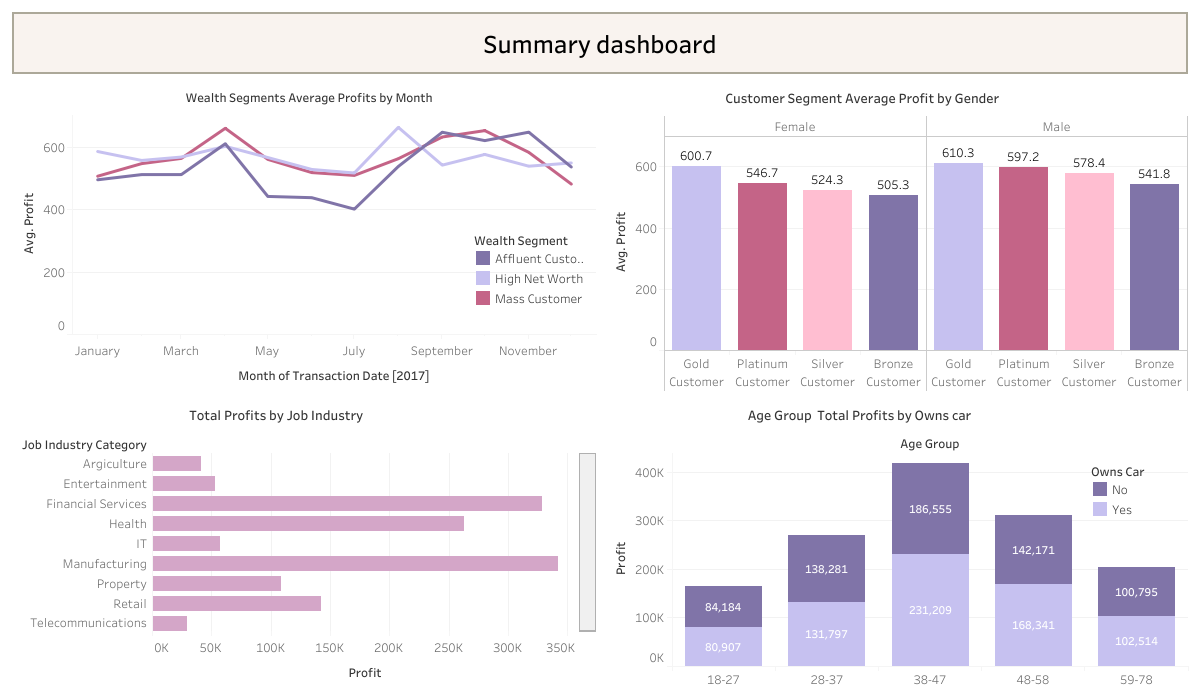

What the dashboard file says about the page in this screenshot:
{"tool":"tableau","page":{"name":"Summary dashboard","canvas":[1000,1000],"units":"permille","ordinal":0},"visuals":[{"type":"title","box":[7,11.4,986,100]},{"type":"worksheet","title":"Wealth Segments Average Profits by Month","mark":"Automatic","rows":["profit"],"cols":["transaction_date"],"box":[7,111.4,492.7,453.3]},{"type":"worksheet","title":"Average profit ","mark":"Automatic","rows":["profit"],"cols":["gender","Customer_profile"],"box":[499.7,111.4,493.3,453.3]},{"type":"legend","title":"Wealth Segments Average Profits by Month","param":"[federated.0dcfokb0alhsn612u58l811nm39n].[none:wealth_segment:nk]","box":[393.8,327.7,98.2,145.3]},{"type":"worksheet","title":"Total Profits by Industry","mark":"Automatic","rows":["job_industry_category"],"cols":["profit"],"box":[7,564.7,492.7,423.9]},{"type":"worksheet","title":"Age Group  Total Profits by Owns car","mark":"Automatic","rows":["profit"],"cols":["age_group"],"box":[499.7,564.7,493.3,423.9]},{"type":"legend","title":"Age Group  Total Profits by Owns car","param":"[federated.0dcfokb0alhsn612u58l811nm39n].[none:owns_car:nk]","box":[908,657.1,75.2,91.2]}]}

Visuals, with their boxes on the dashboard's canvas, which has no fixed pixel size, in thousandths of its width and height (x1, y1, x2, y2). These are canvas units, not pixel positions in the 1199x699 screenshot, which may show the page scaled, cropped or inside an application window:
title: [x1=7, y1=11, x2=993, y2=111]
"Wealth Segments Average Profits by Month" worksheet: [x1=7, y1=111, x2=500, y2=565]
"Average profit " worksheet: [x1=500, y1=111, x2=993, y2=565]
"Wealth Segments Average Profits by Month" legend: [x1=394, y1=328, x2=492, y2=473]
"Total Profits by Industry" worksheet: [x1=7, y1=565, x2=500, y2=989]
"Age Group  Total Profits by Owns car" worksheet: [x1=500, y1=565, x2=993, y2=989]
"Age Group  Total Profits by Owns car" legend: [x1=908, y1=657, x2=983, y2=748]
